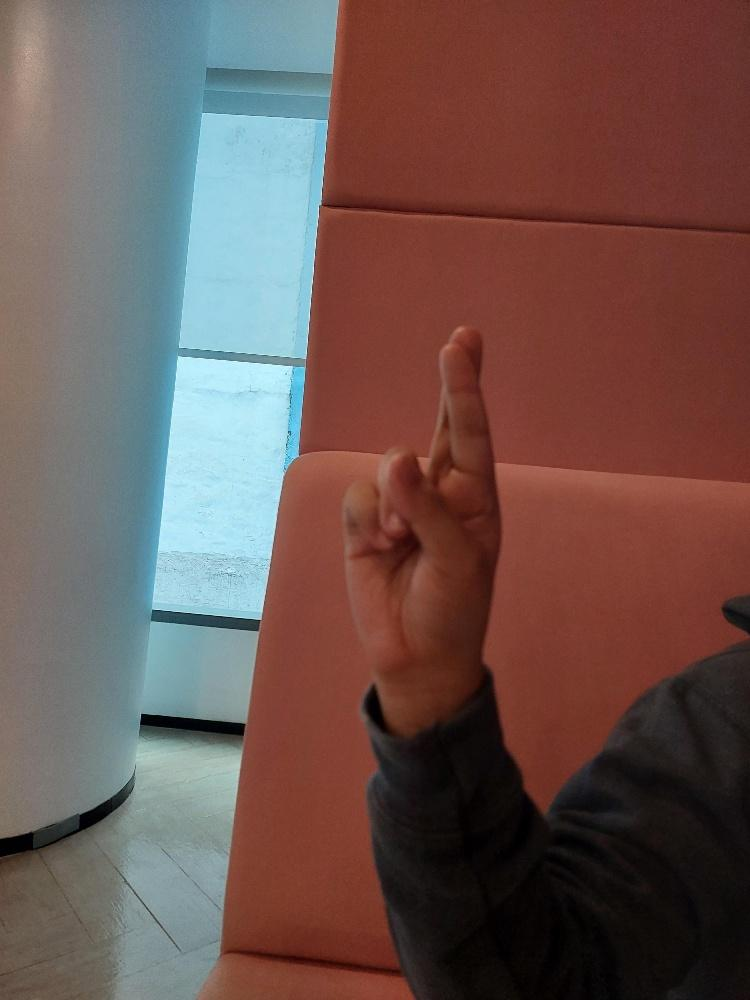r: (335, 315, 506, 689)
